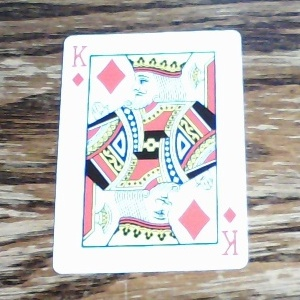card: (51, 30, 249, 270)
